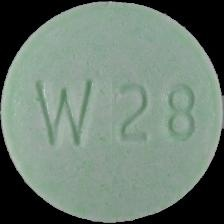0591-2467: (0, 0, 224, 224)
